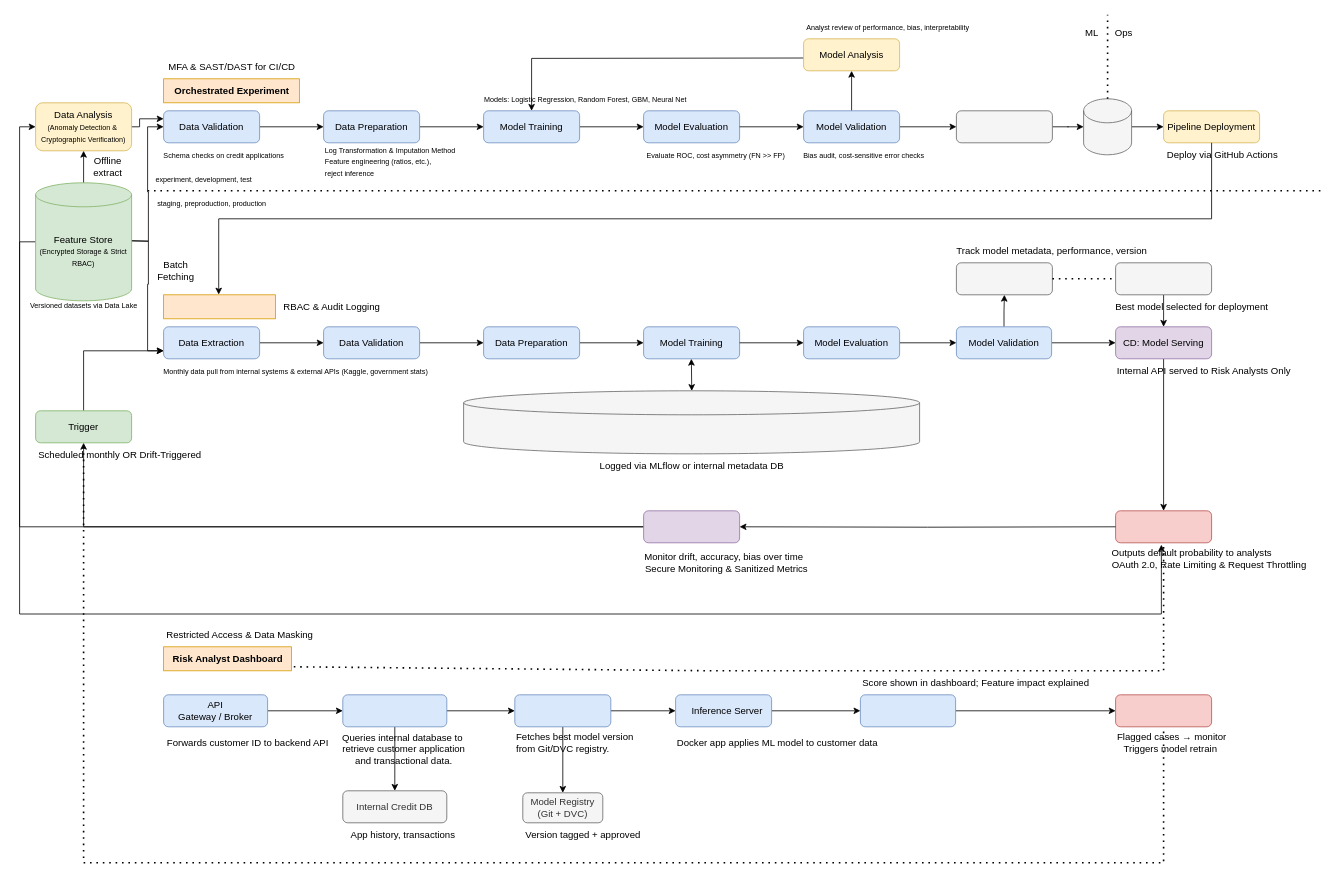
Some shapes in this 1339 by 878 pixel diagram are drawn without their labels. Each missing label, with the centre of its shape:
"Analyst Feedback" goes at point 1163,710.
"Automated Pipeline" goes at point 219,306.
"Load Customer Data" goes at point 394,710.
"Load Model Version" goes at point 562,710.
"ML Metadata Store (Log Sanitization & Access Controls)" goes at point 691,422.
"Model Registry" goes at point 1004,278.
"Performance Monitoring" goes at point 691,526.
"Prediction Service" goes at point 1163,526.
"Response: Risk Score + SHAP" goes at point 908,710.
"Source Code" goes at point 1004,126.
"Source Repository" goes at point 1107,126.
"Trained Model" goes at point 1163,278.
